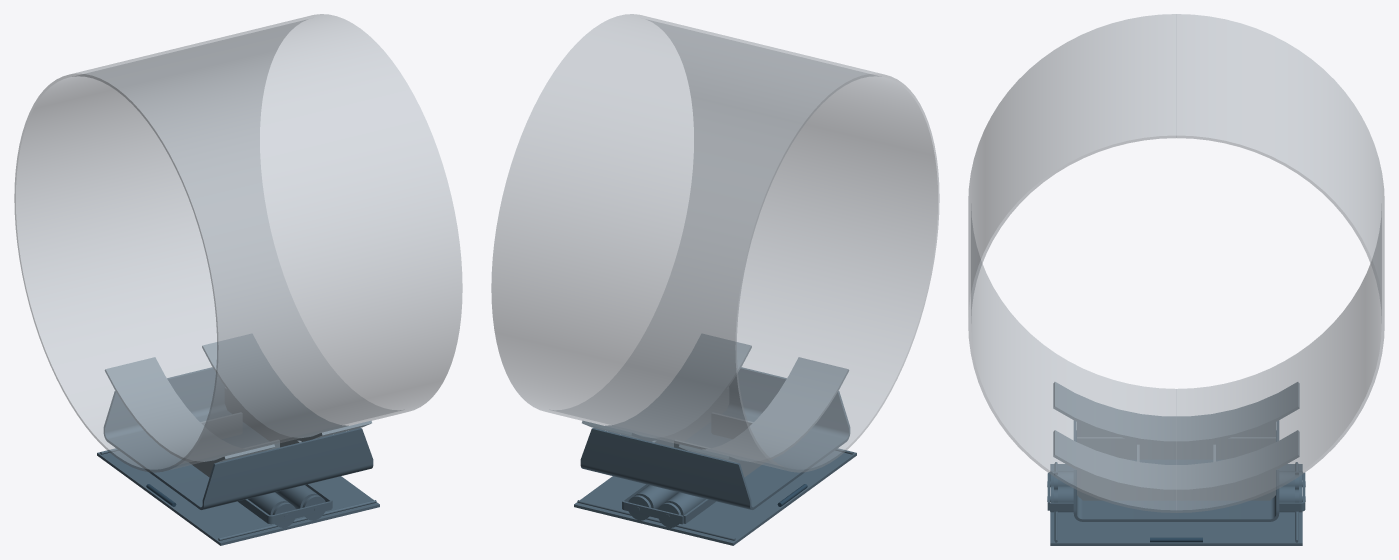
File: TS-630.00.000-11-opora-dn1420-hod800.glb
3 views of the same model, side by side, from view 1: azimuth 30°, elevation 25°; view 2: azimuth 150°, elevation 25°; view 3: azimuth 270°, elevation 25° (orthographic). The views are drawn at different scales.
Parts seen in each view (by area): view 1: truba, o624_skoba_9, o624_podushka_14, o624_podushka_15, plita_osnovanie_0, obojma_ugolnik_7, obojma_katok_5, obojma_katok_6, o624_rebro4_13, rebro630_16; view 2: truba, o624_skoba_9, o624_podushka_14, o624_podushka_15, plita_osnovanie_0, obojma_katok_5, obojma_katok_6, o624_rebro4_13, rebro630_17, obojma_ugolnik_8; view 3: truba, o624_podushka_15, o624_podushka_14, plita_osnovanie_0, o624_skoba_9, o624_rebro4_12, o624_rebro3_11, obojma_katok_5, obojma_katok_6, o624_rebro3_10, obojma_ugolnik_8.
Part boxes in pixels (x1=…): truba: x1=14, y1=14, x2=462, y2=472; o624_skoba_9: x1=103, y1=367, x2=373, y2=509; o624_podushka_14: x1=105, y1=357, x2=274, y2=464; o624_podushka_15: x1=202, y1=334, x2=371, y2=440; plita_osnovanie_0: x1=97, y1=450, x2=379, y2=545; obojma_ugolnik_7: x1=238, y1=499, x2=331, y2=524; obojma_katok_5: x1=275, y1=485, x2=325, y2=520; obojma_katok_6: x1=248, y1=492, x2=295, y2=527; o624_rebro4_13: x1=225, y1=387, x2=301, y2=447; rebro630_16: x1=200, y1=412, x2=242, y2=438; truba: x1=491, y1=14, x2=939, y2=472; o624_skoba_9: x1=580, y1=367, x2=850, y2=509; o624_podushka_14: x1=679, y1=357, x2=848, y2=464; o624_podushka_15: x1=582, y1=334, x2=751, y2=440; plita_osnovanie_0: x1=574, y1=450, x2=856, y2=545; obojma_katok_5: x1=628, y1=485, x2=678, y2=520; obojma_katok_6: x1=658, y1=492, x2=705, y2=527; o624_rebro4_13: x1=652, y1=387, x2=728, y2=447; rebro630_17: x1=711, y1=412, x2=753, y2=438; obojma_ugolnik_8: x1=622, y1=484, x2=683, y2=524; truba: x1=968, y1=14, x2=1384, y2=512; o624_podushka_15: x1=1053, y1=430, x2=1299, y2=492; o624_podushka_14: x1=1053, y1=382, x2=1299, y2=443; plita_osnovanie_0: x1=1050, y1=464, x2=1302, y2=545; o624_skoba_9: x1=1073, y1=420, x2=1279, y2=521; o624_rebro4_12: x1=1077, y1=437, x2=1275, y2=459; o624_rebro3_11: x1=1077, y1=470, x2=1275, y2=500; obojma_katok_5: x1=1047, y1=486, x2=1305, y2=512; obojma_katok_6: x1=1047, y1=471, x2=1305, y2=489; o624_rebro3_10: x1=1077, y1=422, x2=1275, y2=437; obojma_ugolnik_8: x1=1050, y1=472, x2=1305, y2=511.
Size of the model in its own units: 980 by 1623 by 1420.
